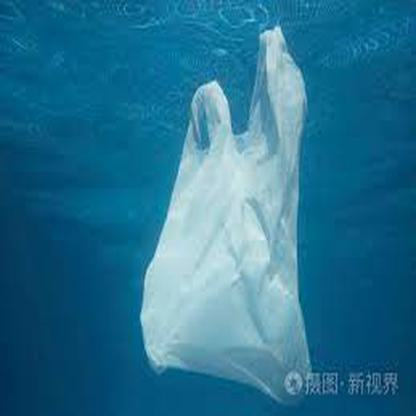plastic bag: (142, 26, 314, 401)
